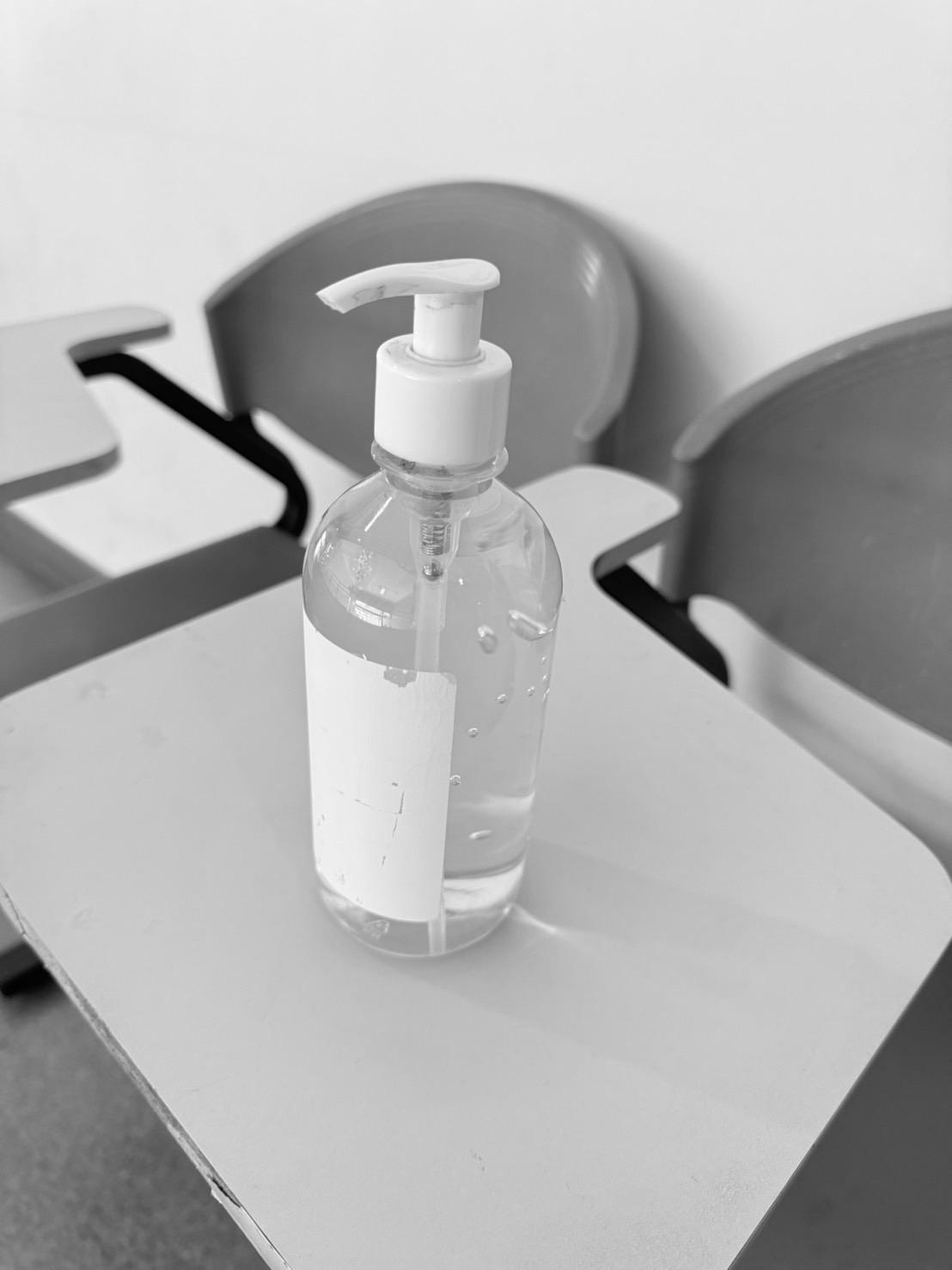bottle: (302, 260, 562, 960)
